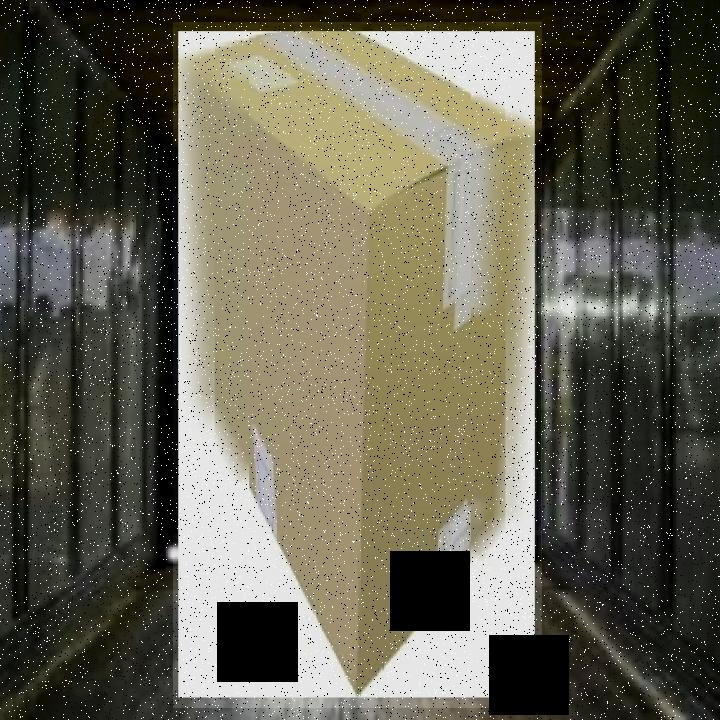box: (173, 22, 542, 708)
